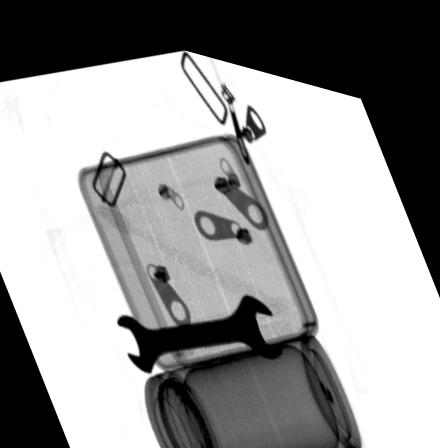Wrench: (116, 276, 286, 366)
